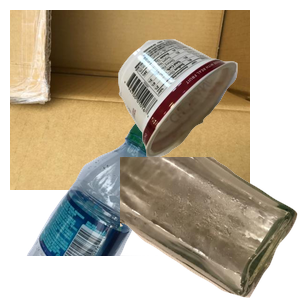cardboard: (10, 10, 250, 190)
glass: (120, 157, 300, 300)
plastic: (24, 120, 182, 300)
trash: (116, 36, 300, 187)
